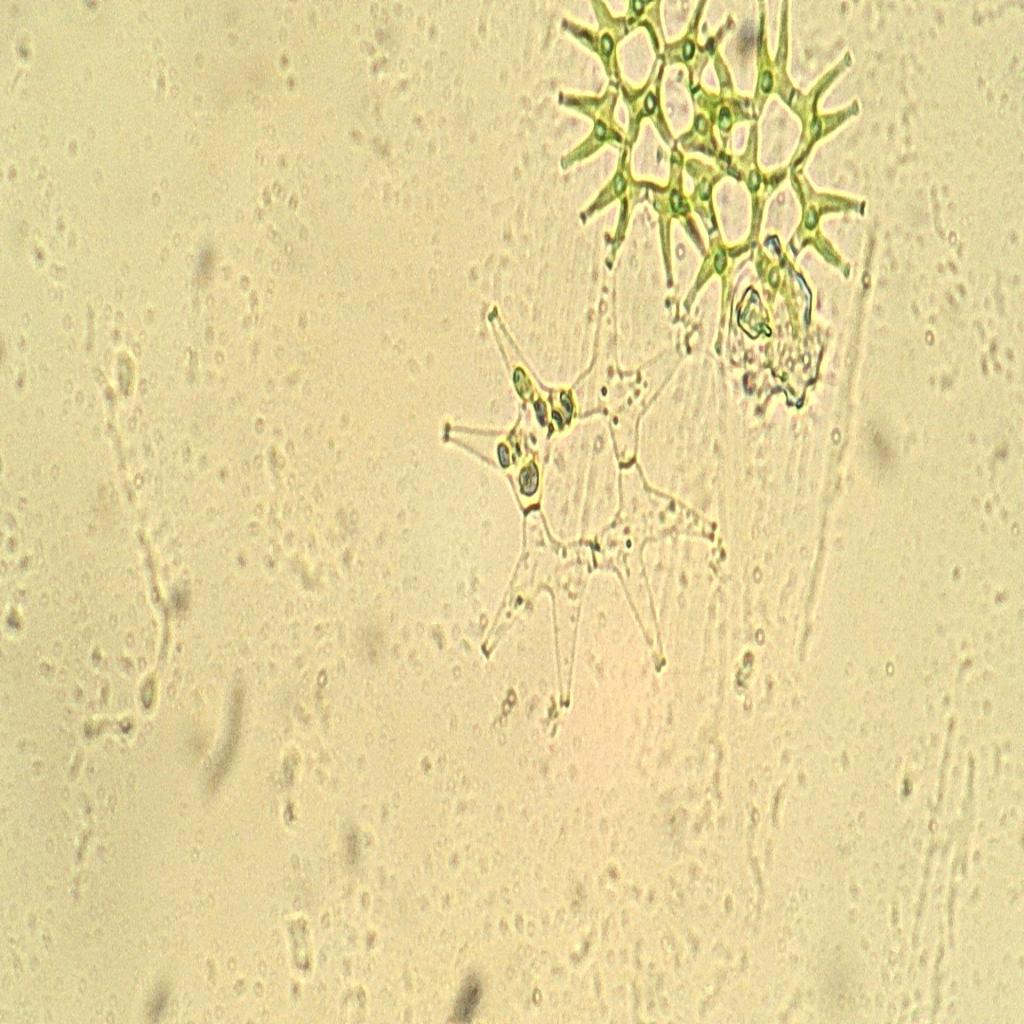Pediastrum_75TH: (437, 218, 743, 729)
